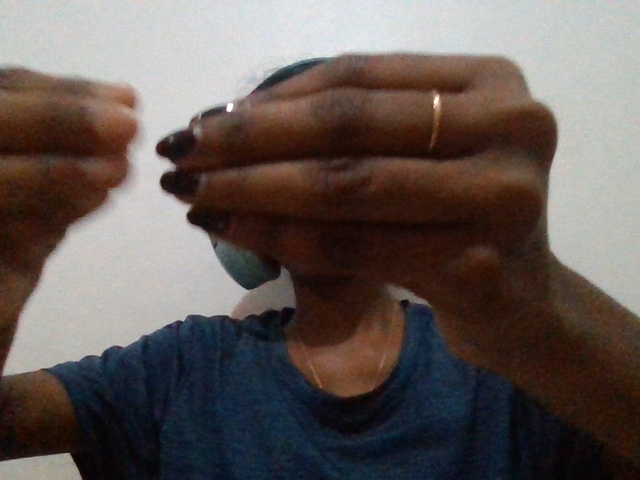More: (4, 41, 558, 433)
